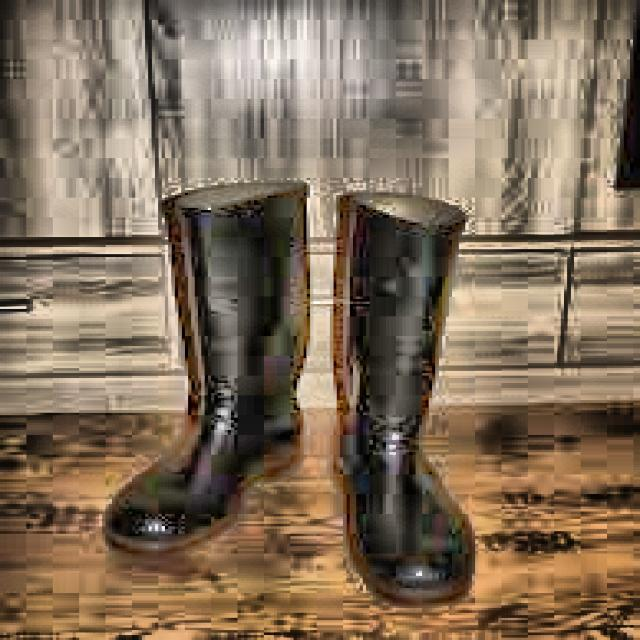shoes: (95, 165, 512, 610)
